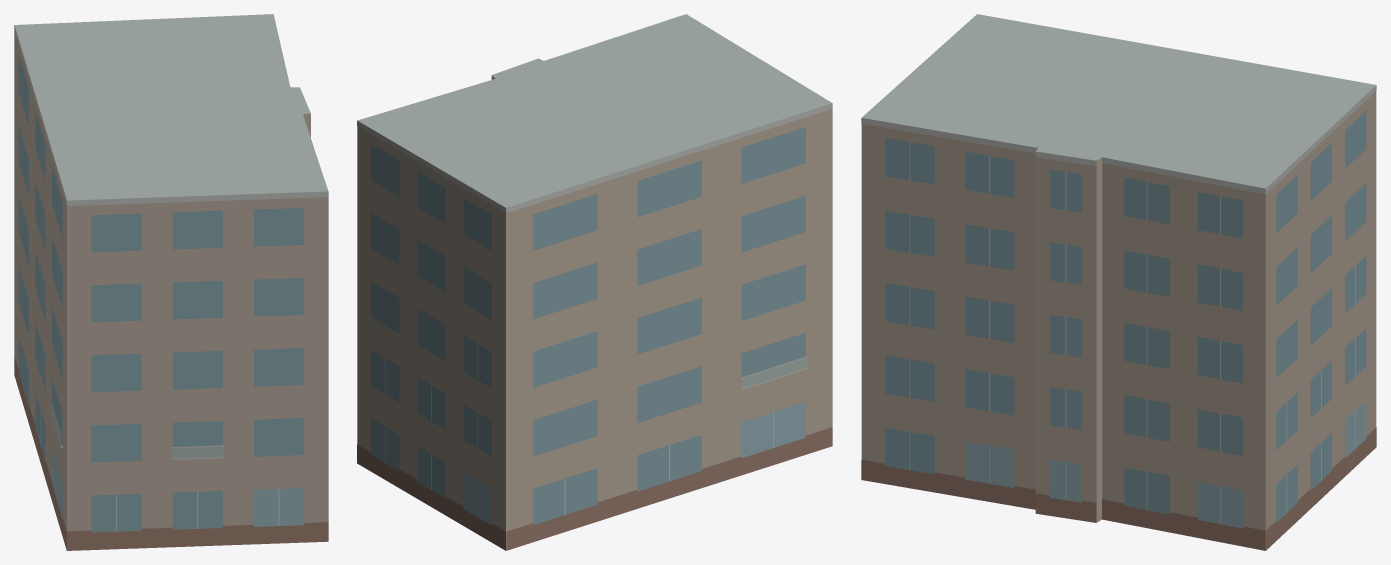
File: survey-upis-32778762.glb
3 views of the same model, side by side, from view 1: azimuth 30°, elevation 25°; view 2: azimuth 150°, elevation 25°; view 3: azimuth 270°, elevation 25° (orthographic). The views are drawn at different scales.
Visible parts, largest first — view 1: survey-upis-32778762.tmp; view 2: survey-upis-32778762.tmp; view 3: survey-upis-32778762.tmp.
Boxes of the visible parts, x1,y1,x2,y2 form: survey-upis-32778762.tmp: [14, 14, 328, 550]; survey-upis-32778762.tmp: [357, 14, 832, 550]; survey-upis-32778762.tmp: [861, 14, 1376, 550].
Bounding box in the file's own units: 15.78 × 15.25 × 19.66.
